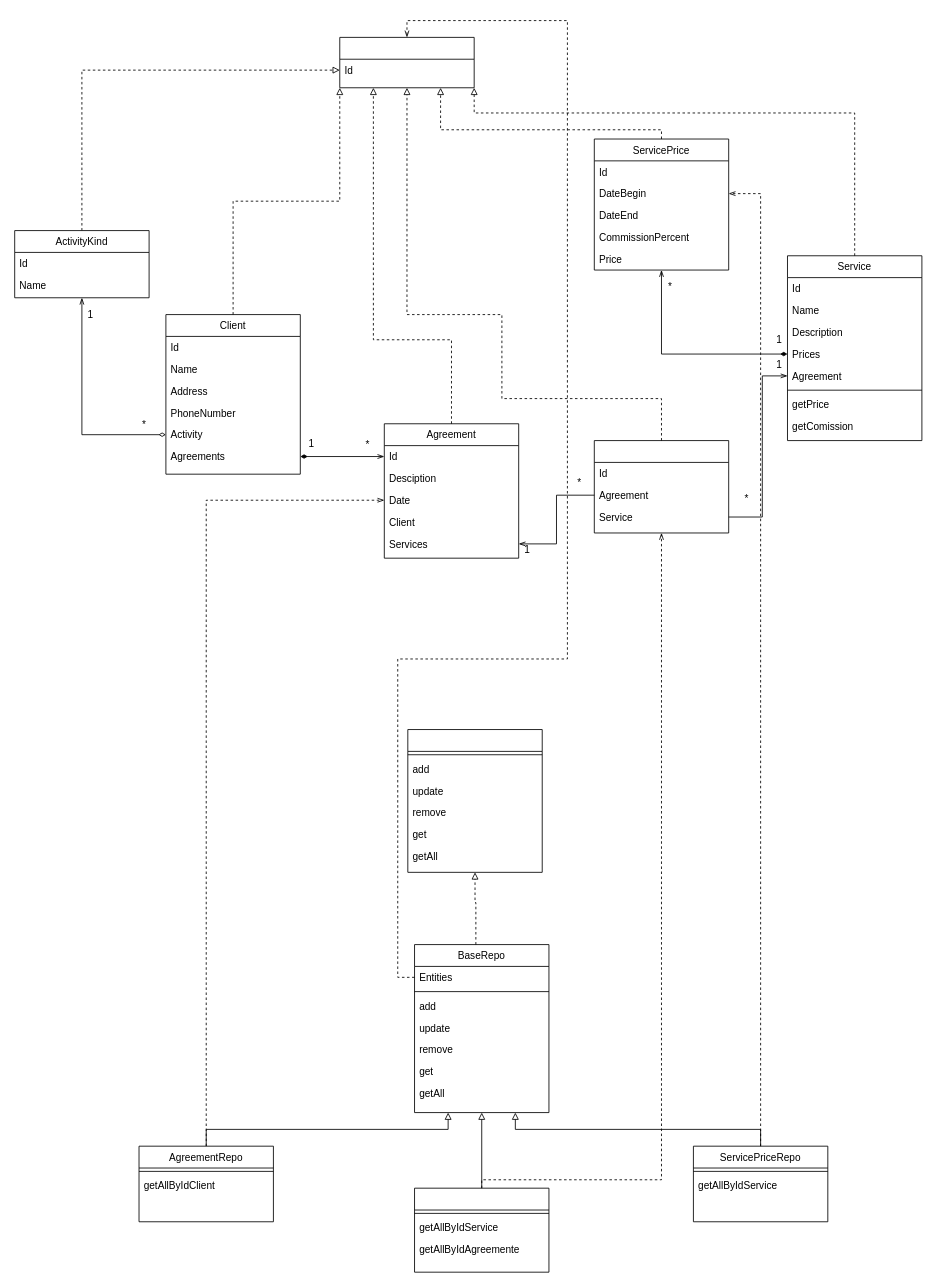
This 937x1287 diagram has some shape labels left out. The box of each missing label's shape, as (x1, y1, x2, y2) in pixels:
Agreement_Service: (593, 440, 729, 533)
Agreement_ServiceRepo: (414, 1187, 549, 1272)
Repo: (407, 729, 542, 872)
WithId: (339, 37, 474, 88)
